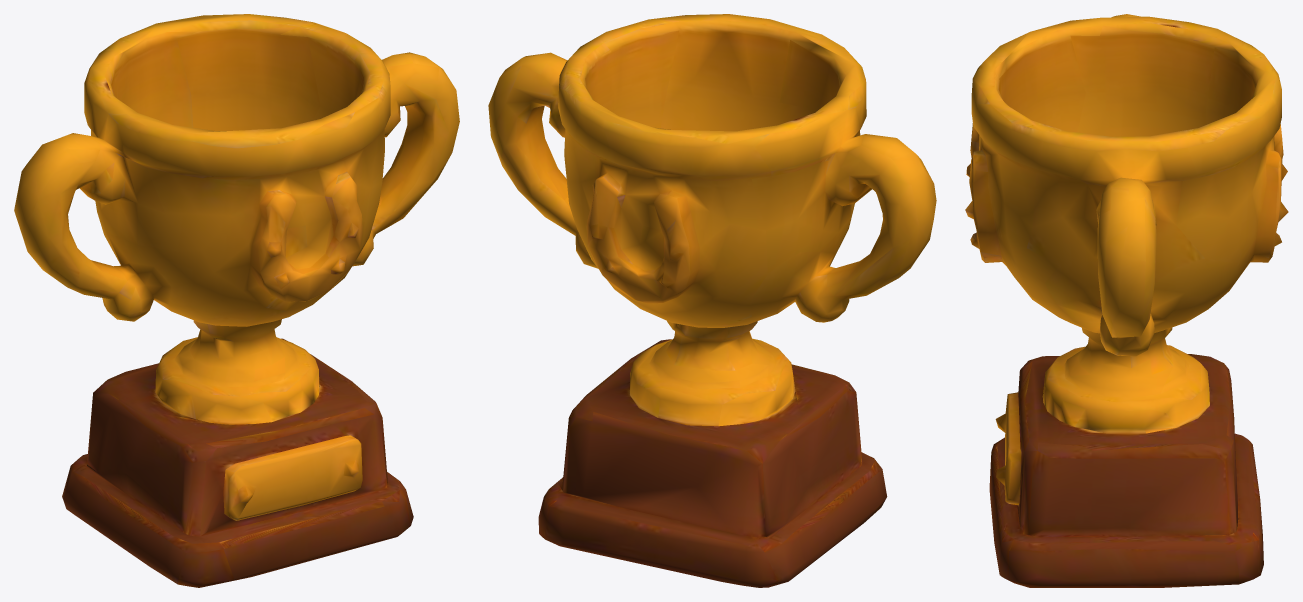
The picture shows the model from 3 angles, left to right: view 1: azimuth 30°, elevation 25°; view 2: azimuth 150°, elevation 25°; view 3: azimuth 270°, elevation 25°; orthographic projection.
Visible parts, largest first — view 1: trophy; view 2: trophy; view 3: trophy.
Part boxes in pixels (<box>): trophy: <box>14,14,459,587</box>; trophy: <box>488,14,936,587</box>; trophy: <box>965,14,1288,587</box>.
Bounding box in the file's own units: 0.4098 × 0.4 × 0.2596.
Materials: 1 (1 with a texture image).
